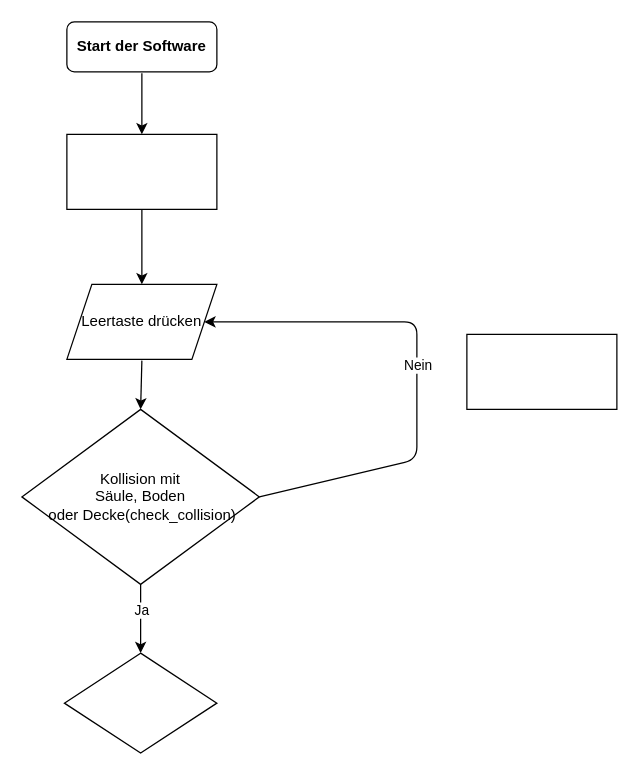
The diagram is 639 pixels wide and 775 high, and some of its shapes have lost their labels. Here are the shapes that lost their labels. From the top down, the centre of each, then its label:
At point (141, 171): "Initialisierung (main/while Schleife)".
At point (140, 702): "Highscore geknackt?".
